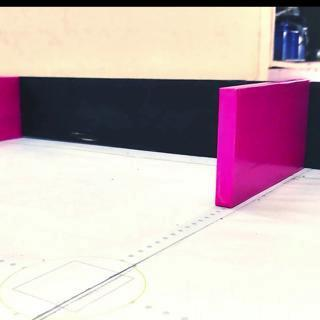xparking: (216, 86, 307, 200)
